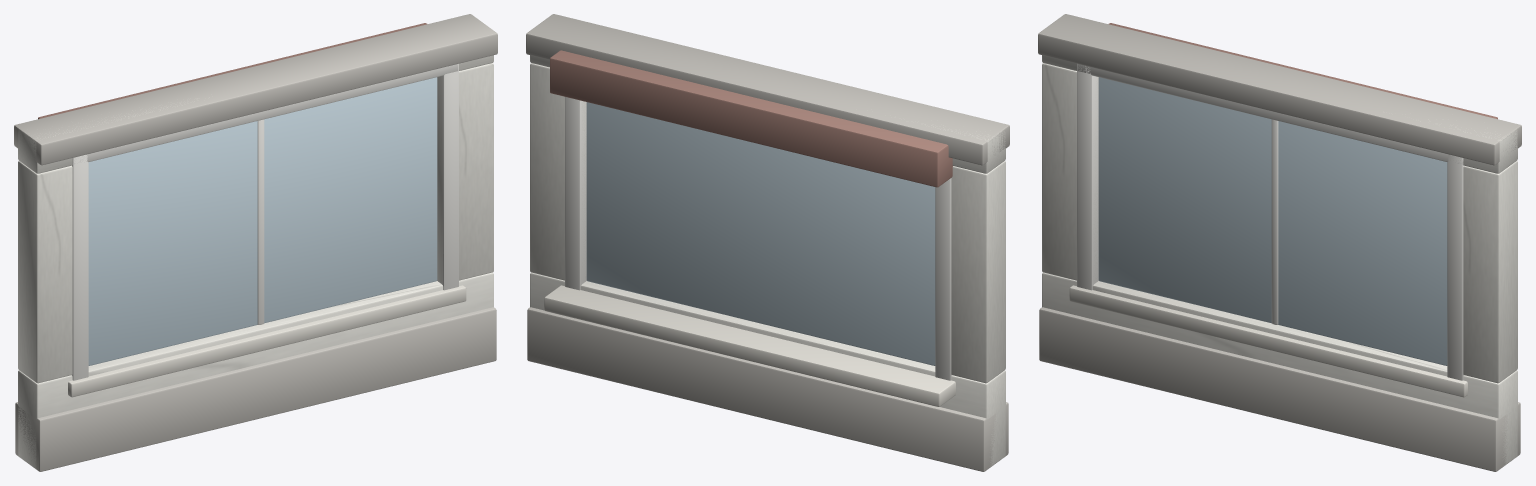
File: th34_wand_schaufenster.glb
3 views of the same model, side by side, from view 1: azimuth 30°, elevation 25°; view 2: azimuth 150°, elevation 25°; view 3: azimuth 330°, elevation 25° (orthographic).
Parts seen in each view (by area): view 1: Cube.004, Cube.011, Cube.012, Cube, Cube.002, Cube.003, Cube.009, Cube.006, Cube.007, Cube.008, Cube.005, Cube.001 (+1 smaller); view 2: Cube.004, Cube.011, Cube.010, Cube.012, Cube.009, Cube.002, Cube.003, Cube, Cube.007, Cube.006, Cube.001; view 3: Cube.004, Cube.011, Cube.012, Cube, Cube.003, Cube.002, Cube.009, Cube.006, Cube.007, Cube.008, Cube.005, Cube.001 (+1 smaller).
Boxes of the visible parts, x1=… form: Cube.004: x1=88, y1=77, x2=437, y2=365; Cube.011: x1=15, y1=307, x2=496, y2=471; Cube.012: x1=14, y1=14, x2=497, y2=165; Cube: x1=18, y1=272, x2=493, y2=468; Cube.002: x1=18, y1=161, x2=72, y2=383; Cube.003: x1=437, y1=63, x2=493, y2=282; Cube.009: x1=68, y1=285, x2=466, y2=397; Cube.006: x1=72, y1=154, x2=88, y2=380; Cube.007: x1=437, y1=63, x2=458, y2=290; Cube.008: x1=74, y1=64, x2=458, y2=163; Cube.005: x1=257, y1=119, x2=264, y2=324; Cube.001: x1=18, y1=55, x2=493, y2=173; Cube.004: x1=586, y1=102, x2=935, y2=365; Cube.011: x1=527, y1=307, x2=1008, y2=471; Cube.010: x1=550, y1=50, x2=952, y2=187; Cube.012: x1=526, y1=14, x2=1009, y2=165; Cube.009: x1=544, y1=285, x2=955, y2=406; Cube.002: x1=951, y1=161, x2=1005, y2=383; Cube.003: x1=530, y1=63, x2=586, y2=280; Cube: x1=530, y1=272, x2=1005, y2=466; Cube.007: x1=565, y1=97, x2=586, y2=290; Cube.006: x1=935, y1=178, x2=951, y2=380; Cube.001: x1=530, y1=55, x2=1005, y2=173; Cube.004: x1=1098, y1=77, x2=1447, y2=365; Cube.011: x1=1039, y1=307, x2=1520, y2=471; Cube.012: x1=1038, y1=14, x2=1521, y2=165; Cube: x1=1042, y1=272, x2=1517, y2=466; Cube.003: x1=1463, y1=161, x2=1517, y2=383; Cube.002: x1=1042, y1=63, x2=1098, y2=280; Cube.009: x1=1069, y1=285, x2=1467, y2=397; Cube.006: x1=1077, y1=63, x2=1098, y2=290; Cube.007: x1=1447, y1=154, x2=1463, y2=380; Cube.008: x1=1077, y1=64, x2=1463, y2=164; Cube.005: x1=1271, y1=119, x2=1278, y2=324; Cube.001: x1=1042, y1=55, x2=1517, y2=173.
Size of the model in its own units: 4 by 2.75 by 0.61.
6 materials, 1 textured.
